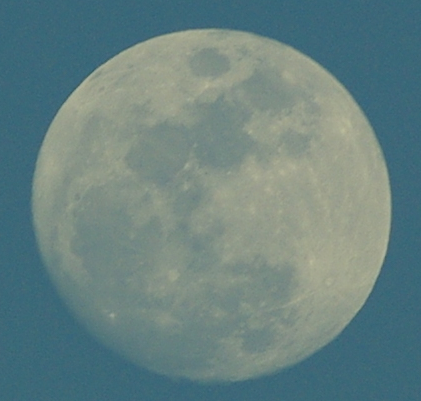crater: (314, 266, 343, 297), (162, 259, 189, 292), (96, 299, 124, 328)
